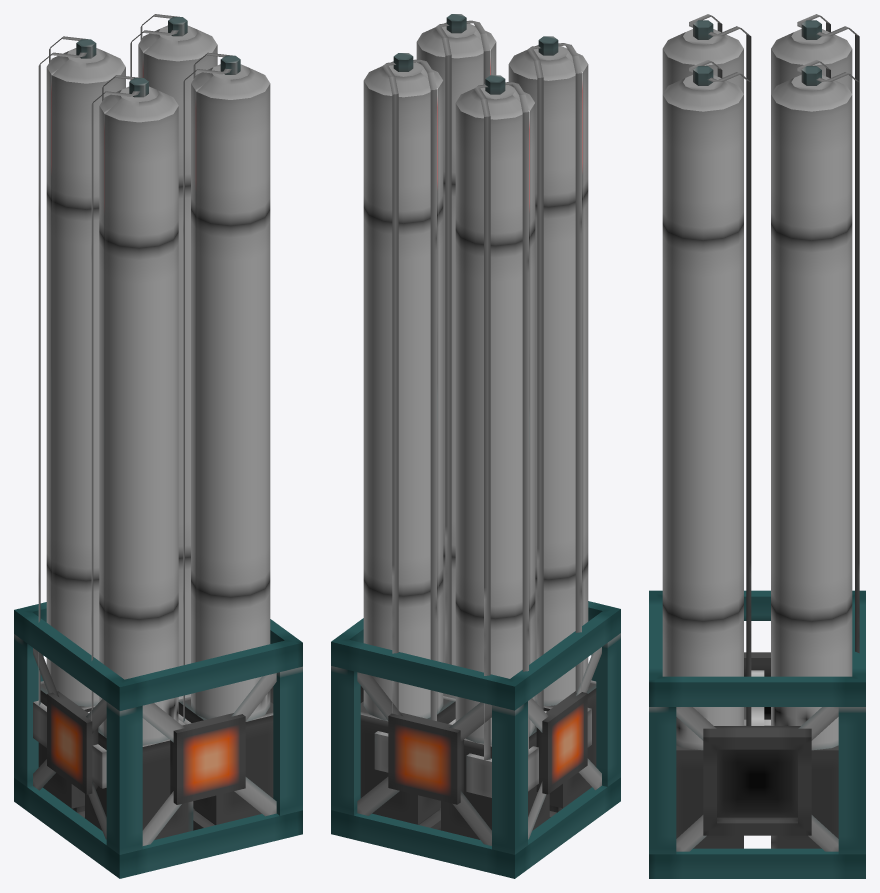
The model's file is gascent.obj.
3 renders of one model, left to right at view 1: azimuth 30°, elevation 25°; view 2: azimuth 150°, elevation 25°; view 3: azimuth 270°, elevation 25°, orthographic. The views are drawn at different scales.
Visible parts, largest first — view 1: Centrifuge; view 2: Centrifuge; view 3: Centrifuge.
Boxes of the visible parts, bbox=[...] form: Centrifuge: bbox=[14, 14, 302, 878]; Centrifuge: bbox=[331, 14, 620, 878]; Centrifuge: bbox=[649, 14, 865, 878].
Bounding box in the file's own units: 1.06 × 4 × 1.
